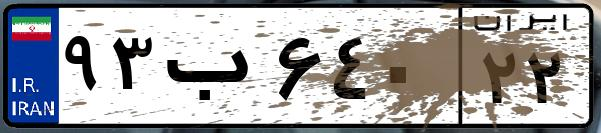0: (385, 28, 445, 110)
2: (475, 38, 525, 113), (525, 38, 570, 115)
3: (110, 28, 158, 98)
4: (330, 28, 385, 110)
6: (270, 28, 330, 110)
9: (57, 26, 110, 100)
ب: (158, 20, 270, 120)
